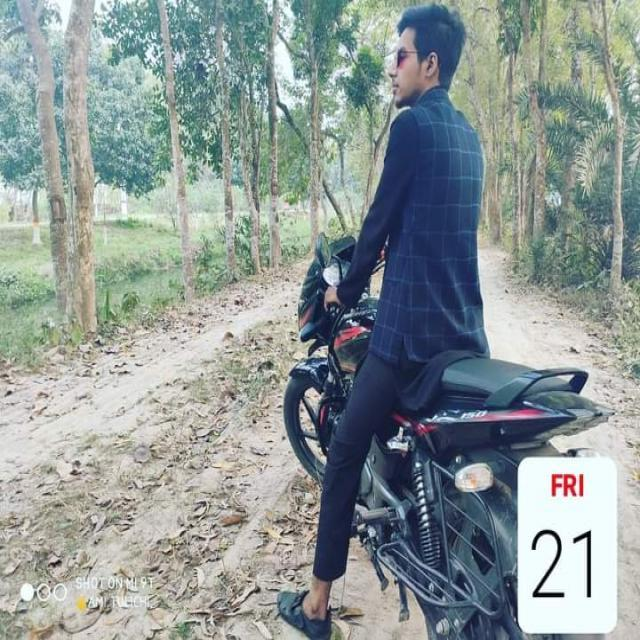No helmet: (382, 0, 468, 109)
